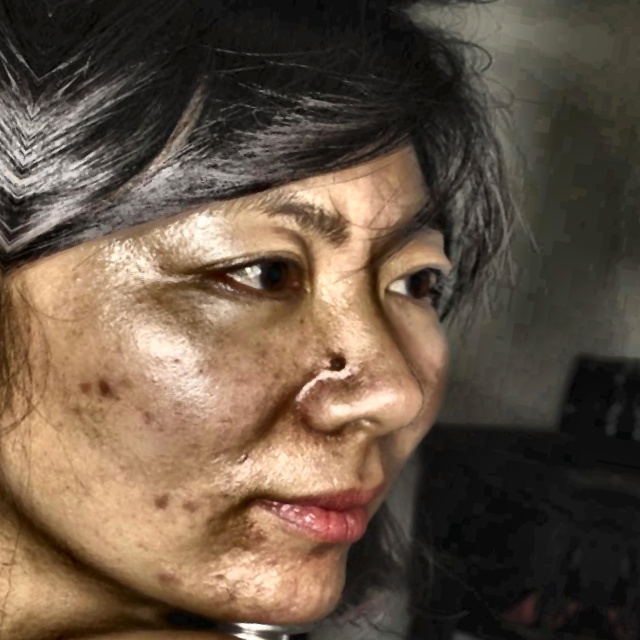comedone: (82, 367, 130, 408), (144, 477, 177, 524), (159, 564, 184, 589)
